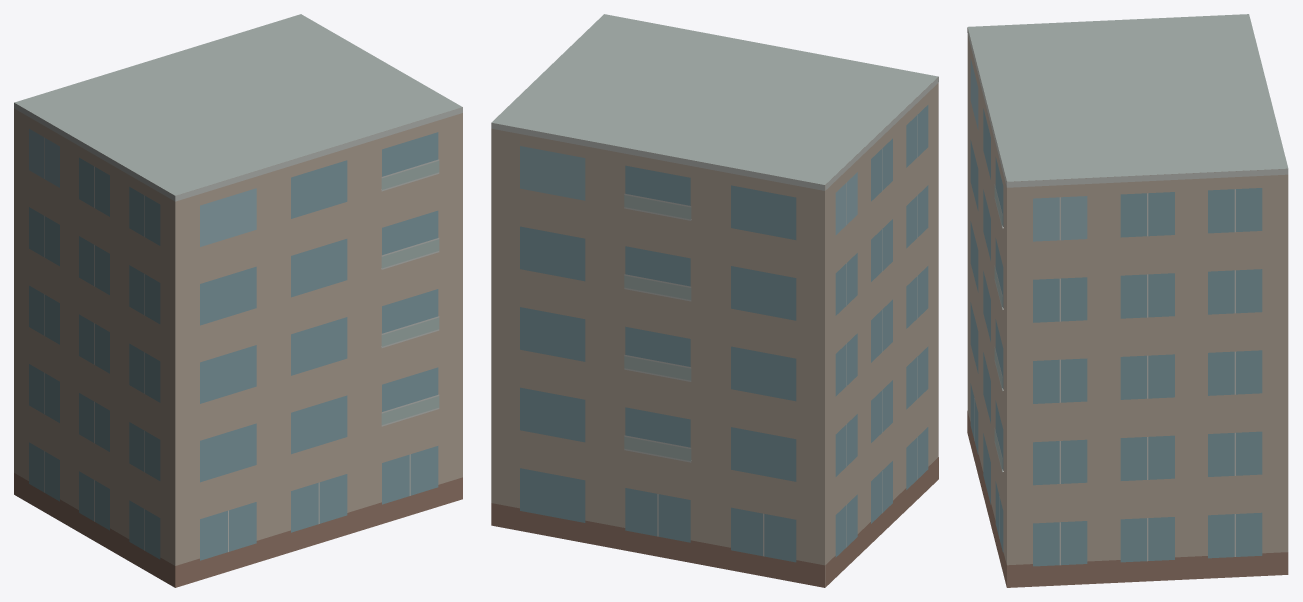
The model's file is survey-upis-32889362.glb.
3 renders of one model, left to right at view 1: azimuth 30°, elevation 25°; view 2: azimuth 150°, elevation 25°; view 3: azimuth 270°, elevation 25°, orthographic. The views are drawn at different scales.
Visible parts, largest first — view 1: survey-upis-32889362.tmp; view 2: survey-upis-32889362.tmp; view 3: survey-upis-32889362.tmp.
Part boxes in pixels (<box>): survey-upis-32889362.tmp: <box>14,14,462,587</box>; survey-upis-32889362.tmp: <box>491,14,938,587</box>; survey-upis-32889362.tmp: <box>967,14,1288,587</box>.
Size of the model in its own units: 14.63 by 16.5 by 11.83.
